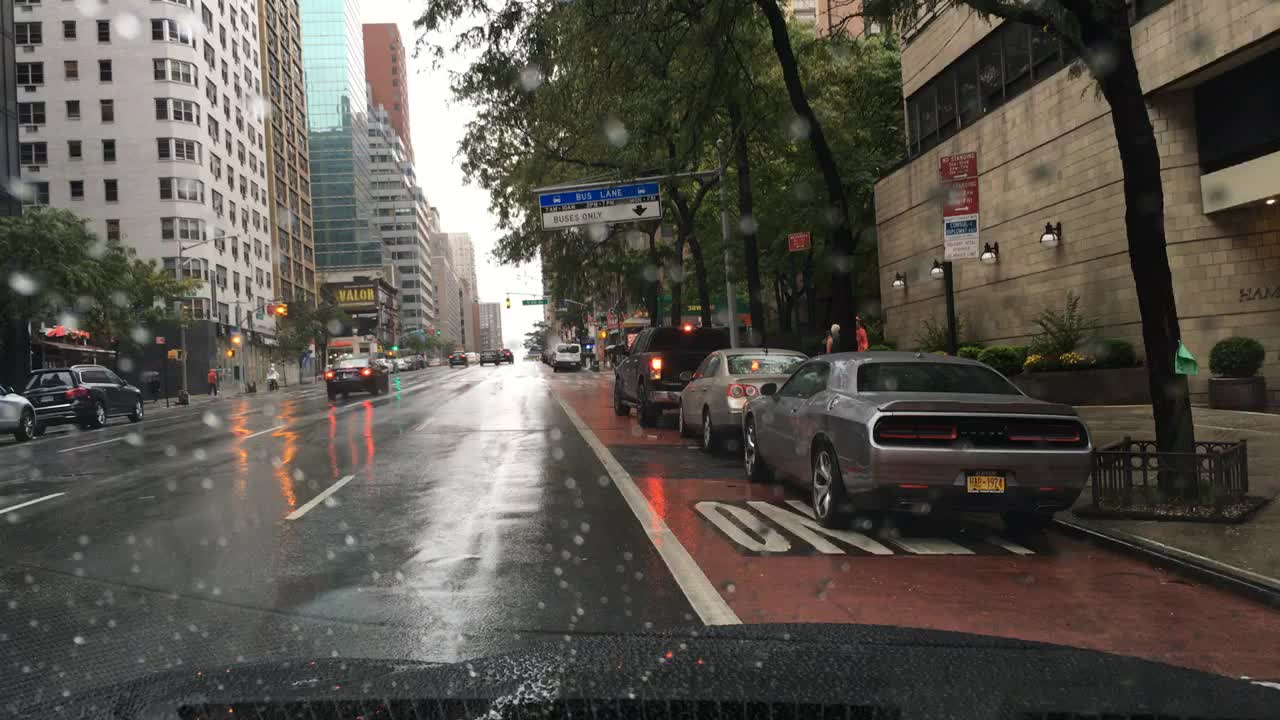car: (739, 349, 1092, 531), (679, 347, 810, 453), (21, 362, 147, 430), (326, 353, 391, 398), (0, 381, 36, 442), (551, 340, 583, 370), (477, 348, 497, 367), (447, 352, 467, 366), (396, 357, 409, 370), (499, 348, 511, 361), (464, 348, 476, 361), (413, 354, 426, 366), (408, 353, 414, 367)
person: (816, 320, 842, 352), (852, 314, 871, 352), (205, 363, 221, 397), (267, 360, 281, 387)
traffic light: (163, 348, 181, 361), (273, 305, 287, 317), (222, 346, 236, 358), (595, 328, 609, 340), (390, 343, 400, 354), (504, 289, 509, 311), (435, 325, 441, 335)
traffic sign: (536, 180, 665, 223), (946, 216, 983, 264), (943, 182, 979, 212), (938, 151, 974, 174), (787, 230, 816, 252), (520, 297, 549, 305)
truck: (610, 320, 728, 427)
